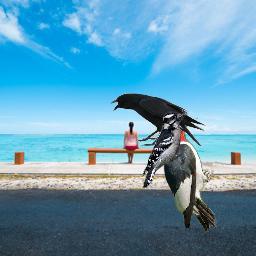Crow: (110, 93, 207, 147)
Woodpecker: (159, 116, 218, 232), (142, 111, 188, 188)
